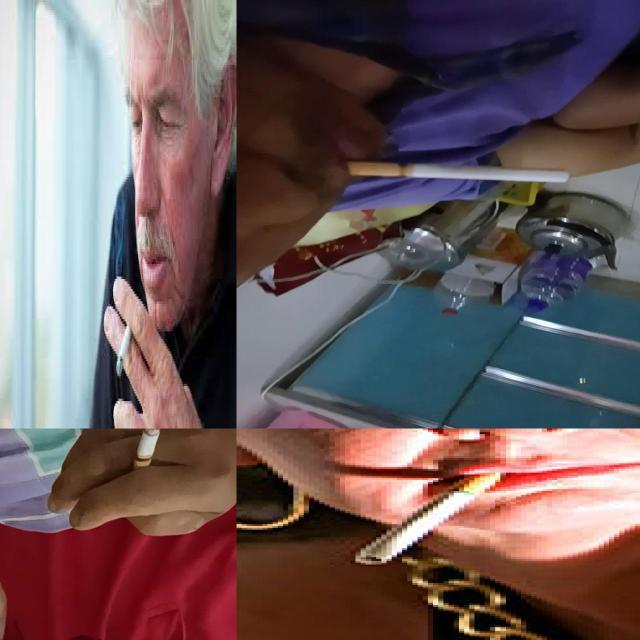smoking: (352, 471, 504, 565), (346, 160, 570, 186), (127, 428, 167, 491), (116, 311, 134, 379)
